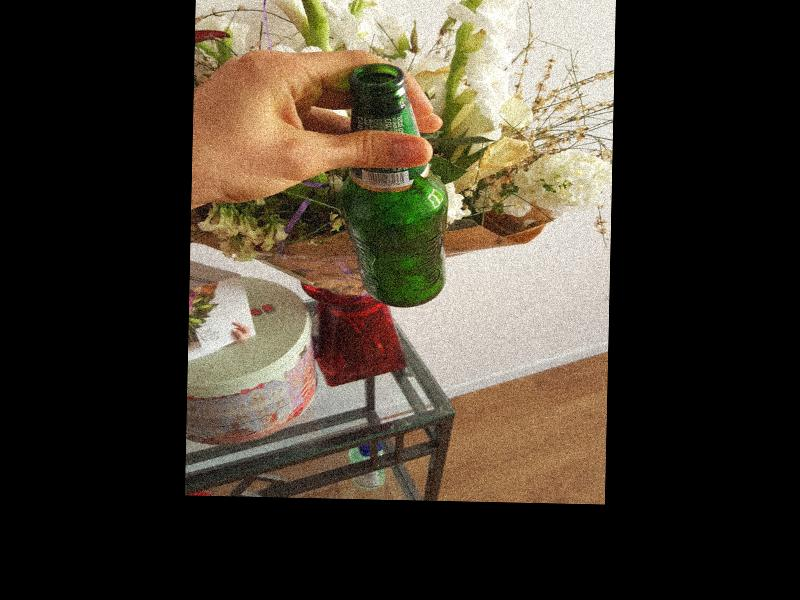Beer: (338, 64, 452, 309)
